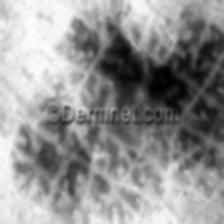Potentially Malignant Skin Tumors: (53, 14, 224, 104), (7, 121, 137, 224)
